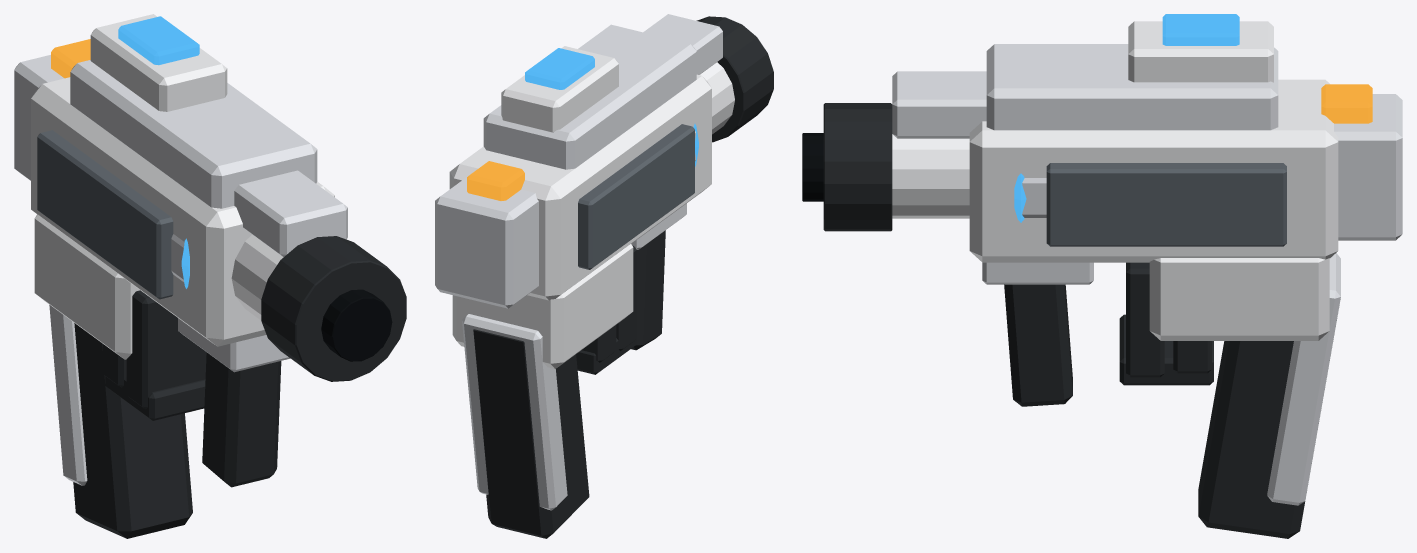
Rendered from VehicleShieldShooter.glb.
3 renders of one model, left to right at view 1: azimuth 30°, elevation 25°; view 2: azimuth 150°, elevation 25°; view 3: azimuth 270°, elevation 25°, orthographic. The views are drawn at different scales.
Parts seen in each view (by area): view 1: FTF_Tool_VehicleLocatorLauncher_White_v2_Static; view 2: FTF_Tool_VehicleLocatorLauncher_White_v2_Static; view 3: FTF_Tool_VehicleLocatorLauncher_White_v2_Static.
Part boxes in pixels (<box>): FTF_Tool_VehicleLocatorLauncher_White_v2_Static: <box>14,14,406,538</box>; FTF_Tool_VehicleLocatorLauncher_White_v2_Static: <box>435,14,773,538</box>; FTF_Tool_VehicleLocatorLauncher_White_v2_Static: <box>802,14,1402,538</box>.
Size of the model in its own units: 0.42 by 1.29 by 1.4.
